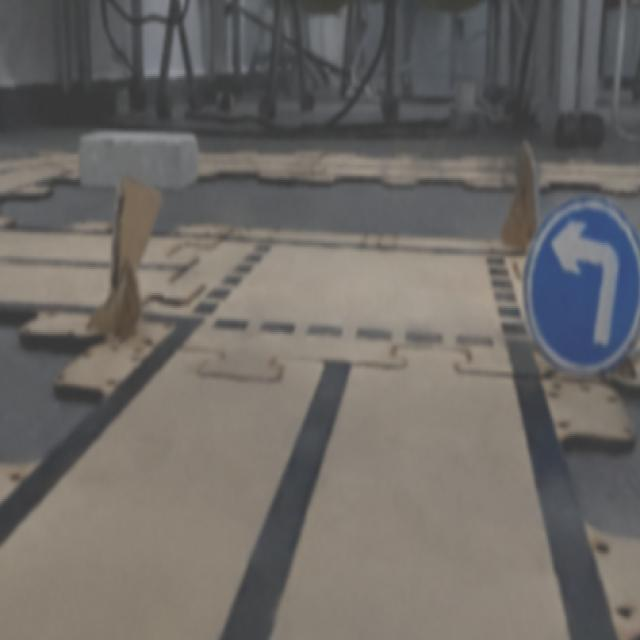LEFT: (524, 195, 639, 373)
